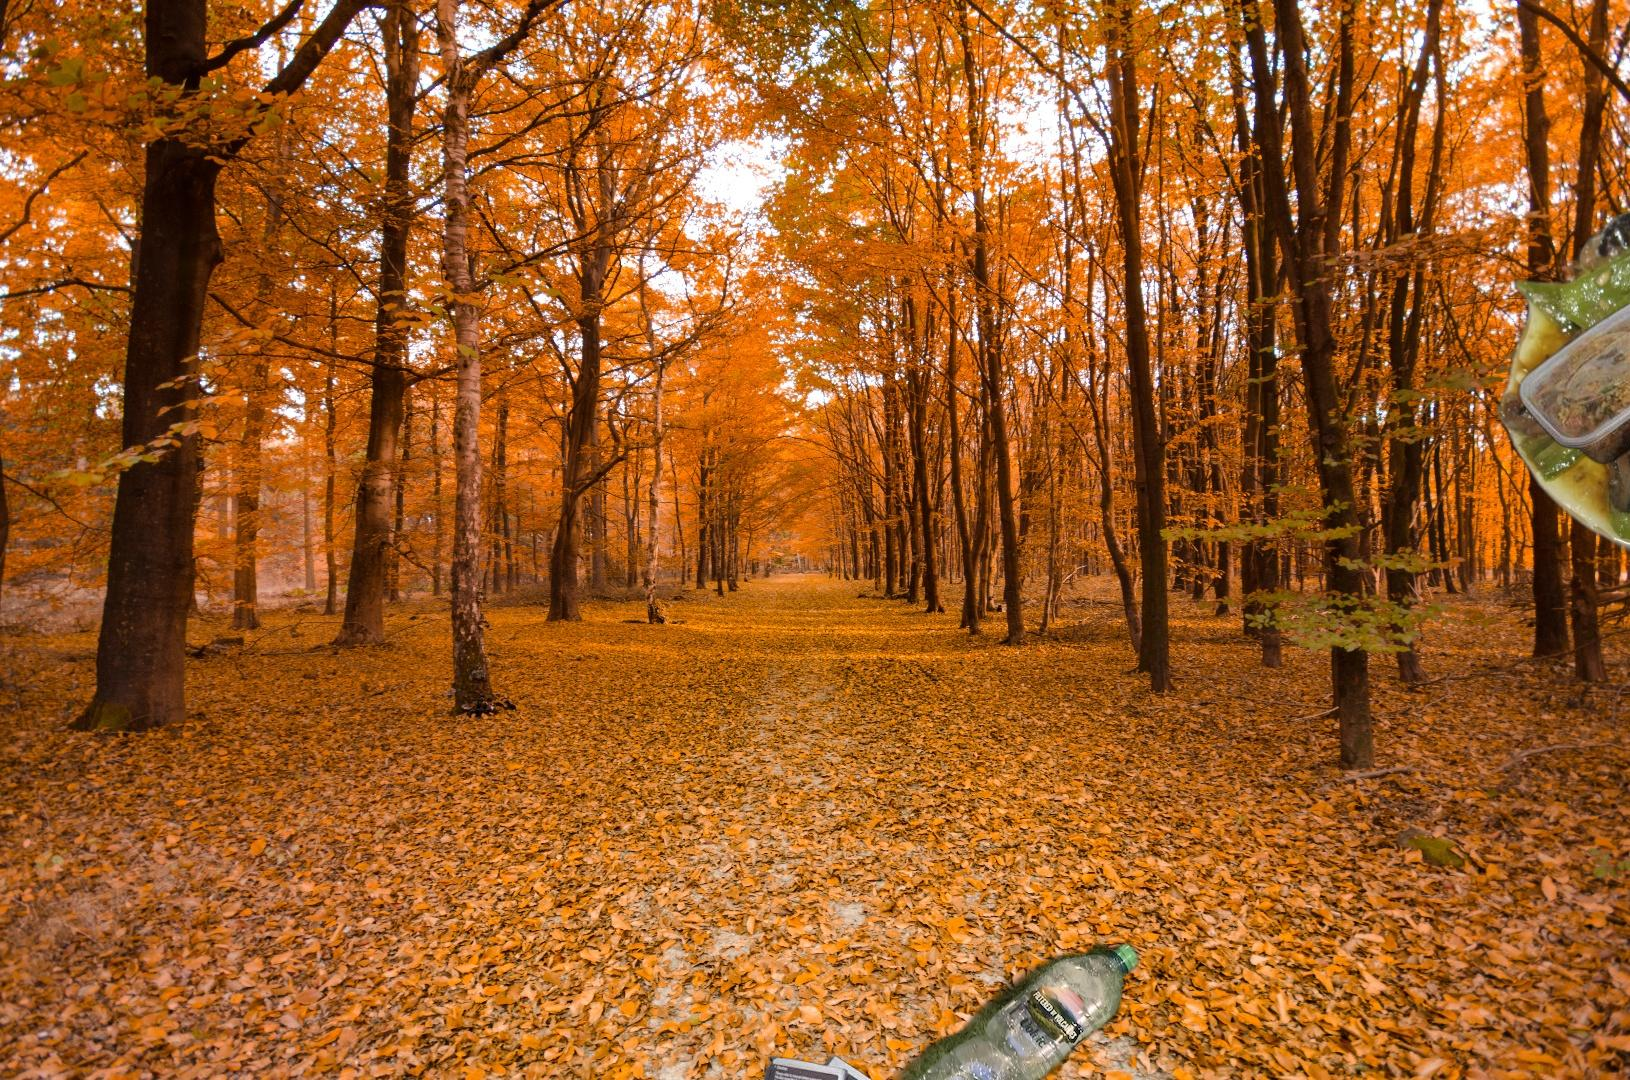battery: (747, 1053, 938, 1080)
biological: (1479, 230, 1630, 579), (1491, 199, 1630, 568)
plastic-bottles: (867, 938, 1143, 1080)
